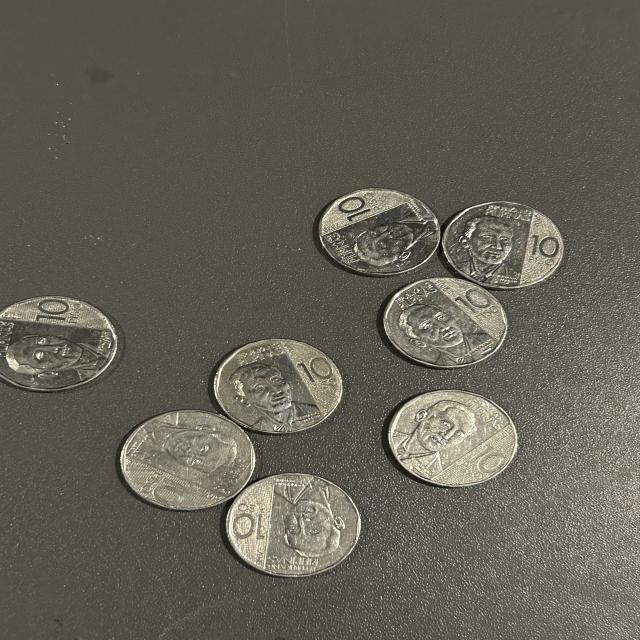10_New_Front: (404, 384, 531, 489), (6, 289, 129, 394), (222, 484, 356, 576), (125, 418, 260, 507), (222, 346, 345, 432), (322, 189, 442, 276), (449, 203, 569, 281), (396, 276, 508, 354)
